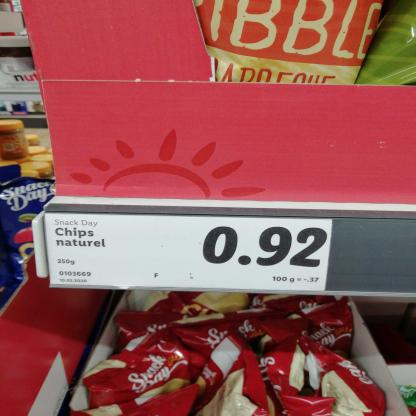prtg: (46, 214, 332, 292)
